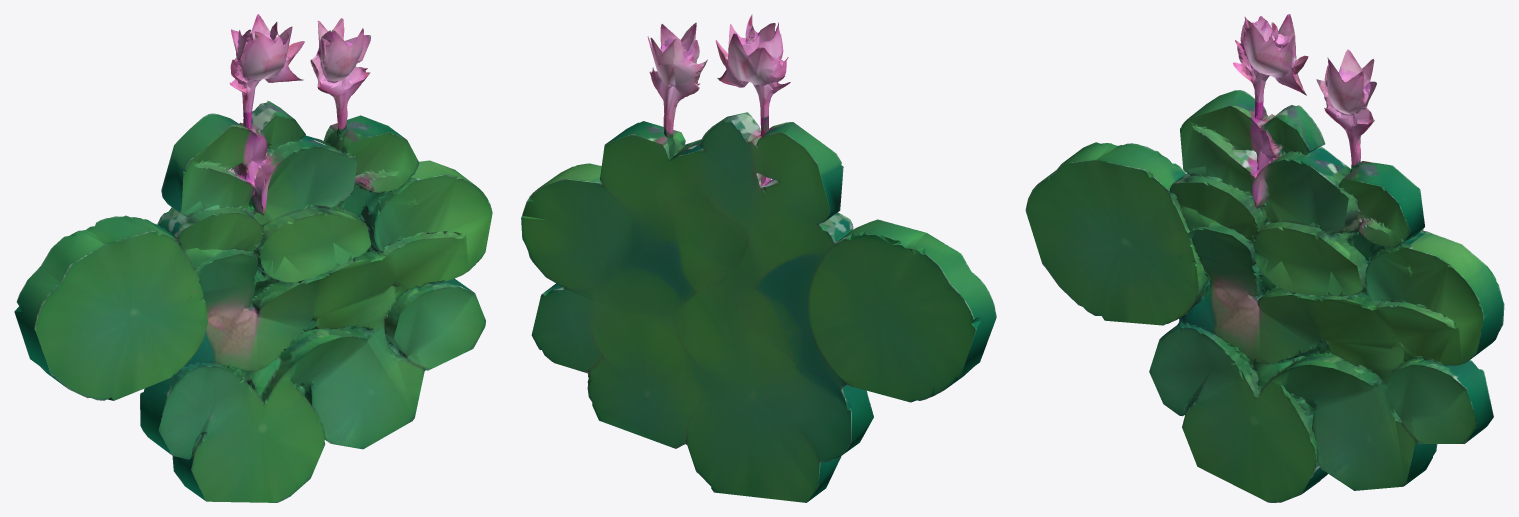
The model's file is lily.glb.
3 renders of one model, left to right at view 1: azimuth 30°, elevation 25°; view 2: azimuth 150°, elevation 25°; view 3: azimuth 330°, elevation 25°, orthographic.
Visible parts, largest first — view 1: Rodin_lily; view 2: Rodin_lily; view 3: Rodin_lily.
Boxes of the visible parts, bbox=[...] form: Rodin_lily: bbox=[14, 14, 492, 502]; Rodin_lily: bbox=[521, 14, 996, 502]; Rodin_lily: bbox=[1025, 14, 1504, 502].
Bounding box in the file's own units: 1.89 × 1.89 × 0.1636.
Materials: 1 (1 with a texture image).
